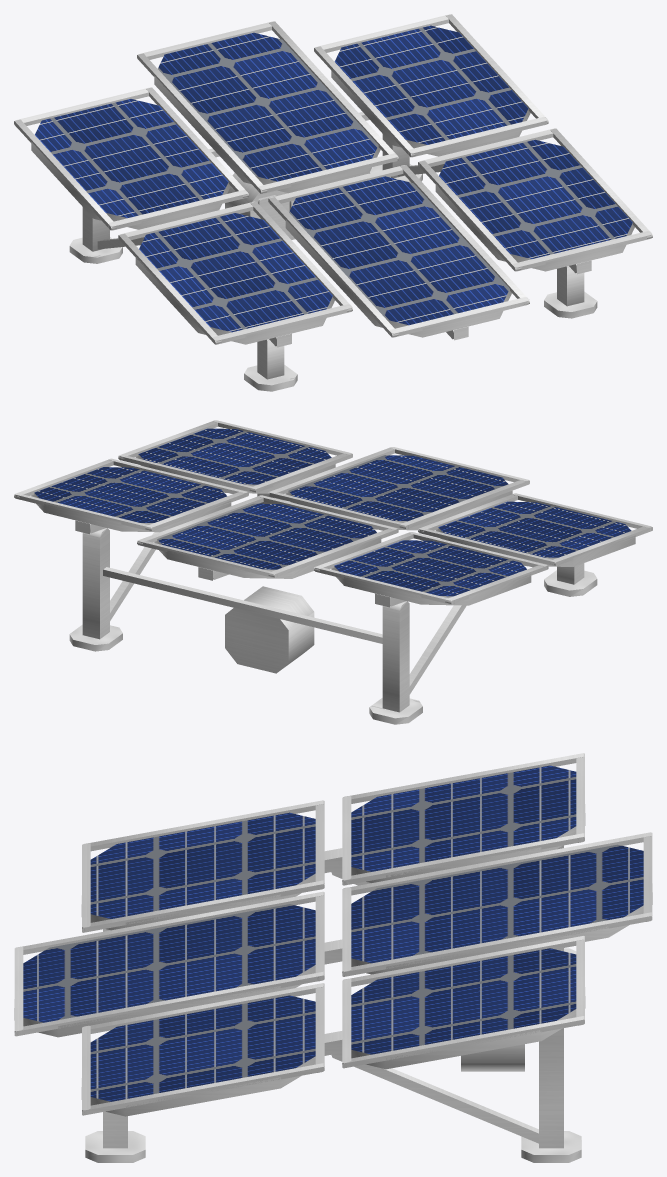
The model's file is solar_generator.obj.
3 views of the same model, one above another, from view 1: azimuth 30°, elevation 25°; view 2: azimuth 150°, elevation 25°; view 3: azimuth 270°, elevation 25° (orthographic). The views are drawn at different scales.
Visible parts, largest first — view 1: source_part_10, source_part_15, source_part_00, source_part_20, source_part_05, source_part_25, source_part_11, source_part_16, source_part_12, source_part_17, source_part_28, source_part_01 (+25 smaller); view 2: source_part_15, source_part_10, source_part_05, source_part_25, source_part_00, source_part_20, source_part_50, source_part_40, source_part_49, source_part_45, source_part_41, source_part_11 (+28 smaller); view 3: source_part_10, source_part_15, source_part_25, source_part_20, source_part_00, source_part_05, source_part_45, source_part_17, source_part_12, source_part_46, source_part_22, source_part_27 (+24 smaller).
Boxes of the visible parts, <box> form: source_part_10: <box>285,176,511,337</box>; source_part_15: <box>154,32,380,193</box>; source_part_00: <box>135,213,334,344</box>; source_part_20: <box>435,139,634,271</box>; source_part_05: <box>31,99,230,229</box>; source_part_25: <box>331,25,530,156</box>; source_part_11: <box>268,197,398,337</box>; source_part_16: <box>137,53,267,193</box>; source_part_12: <box>400,165,529,304</box>; source_part_17: <box>269,21,398,160</box>; source_part_28: <box>408,116,547,157</box>; source_part_01: <box>118,233,221,344</box>; source_part_15: <box>154,503,381,578</box>; source_part_10: <box>285,455,512,530</box>; source_part_05: <box>331,540,531,605</box>; source_part_25: <box>31,467,231,532</box>; source_part_00: <box>435,501,635,566</box>; source_part_20: <box>135,428,335,493</box>; source_part_50: <box>225,586,314,673</box>; source_part_40: <box>382,601,409,712</box>; source_part_49: <box>103,567,382,643</box>; source_part_45: <box>82,528,109,639</box>; source_part_41: <box>409,605,466,694</box>; source_part_11: <box>399,480,529,529</box>; source_part_10: <box>23,904,315,1037</box>; source_part_15: <box>351,844,643,974</box>; source_part_25: <box>351,948,576,1069</box>; source_part_20: <box>90,995,315,1116</box>; source_part_00: <box>90,812,315,930</box>; source_part_05: <box>351,765,576,882</box>; source_part_45: <box>539,1028,563,1148</box>; source_part_17: <box>342,912,652,976</box>; source_part_12: <box>14,971,324,1036</box>; source_part_46: <box>331,1053,538,1143</box>; source_part_22: <box>82,1063,324,1115</box>; source_part_27: <box>342,1016,584,1068</box>.
Size of the model in its own units: 3.56 by 1.15 by 3.61.
